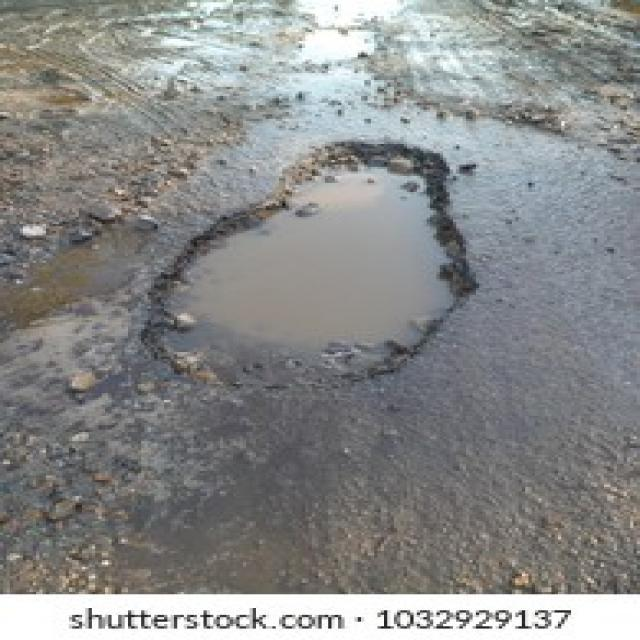Pothole: (141, 132, 479, 396)
